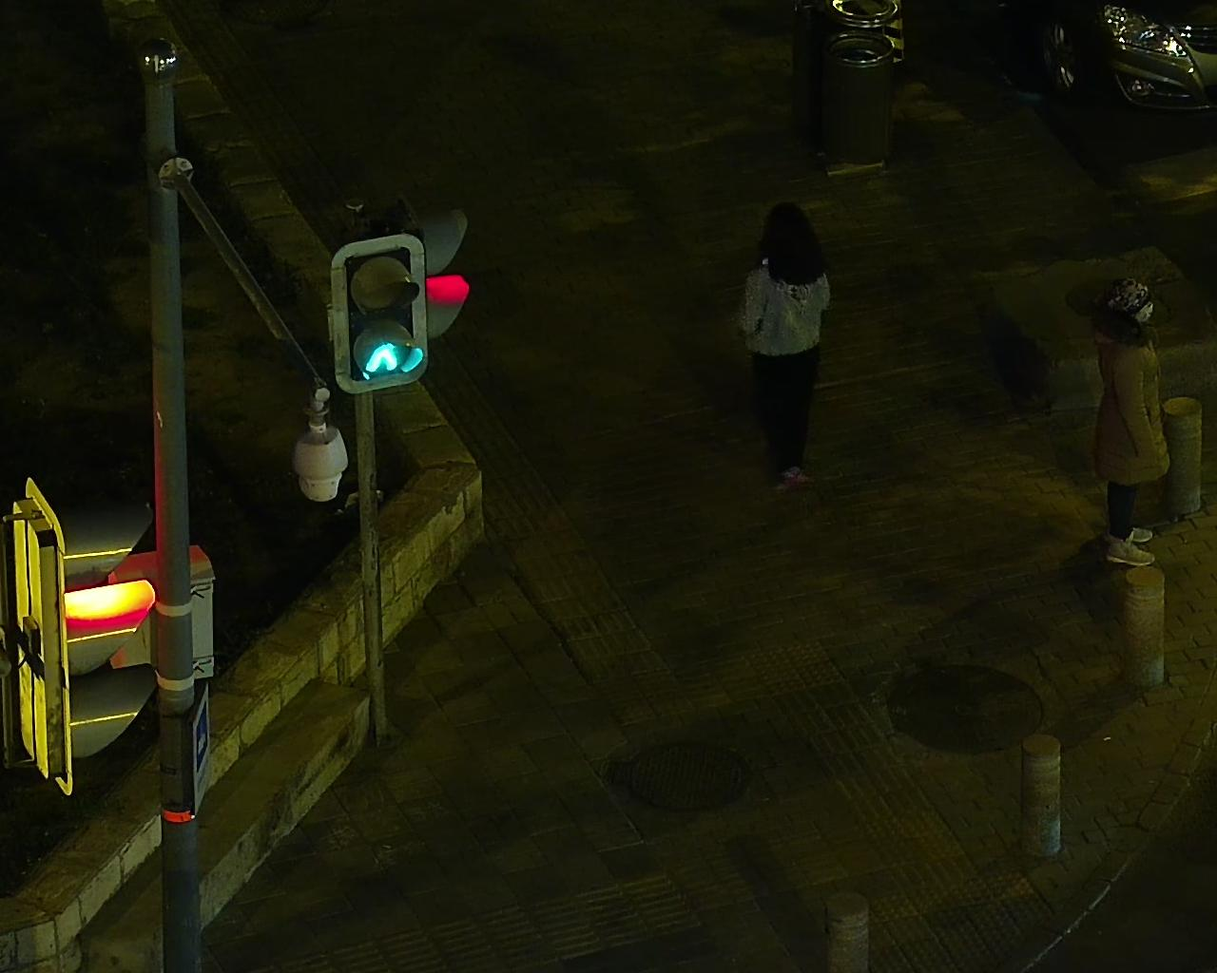person: (727, 186, 838, 503), (1086, 271, 1176, 574)
